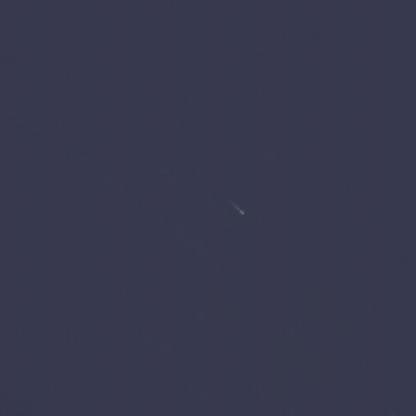ship: (228, 203, 248, 219)
